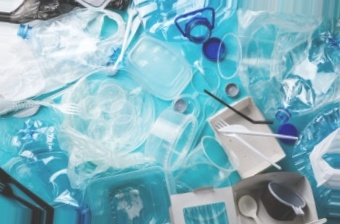plastic: (83, 170, 179, 224), (125, 34, 189, 99)
